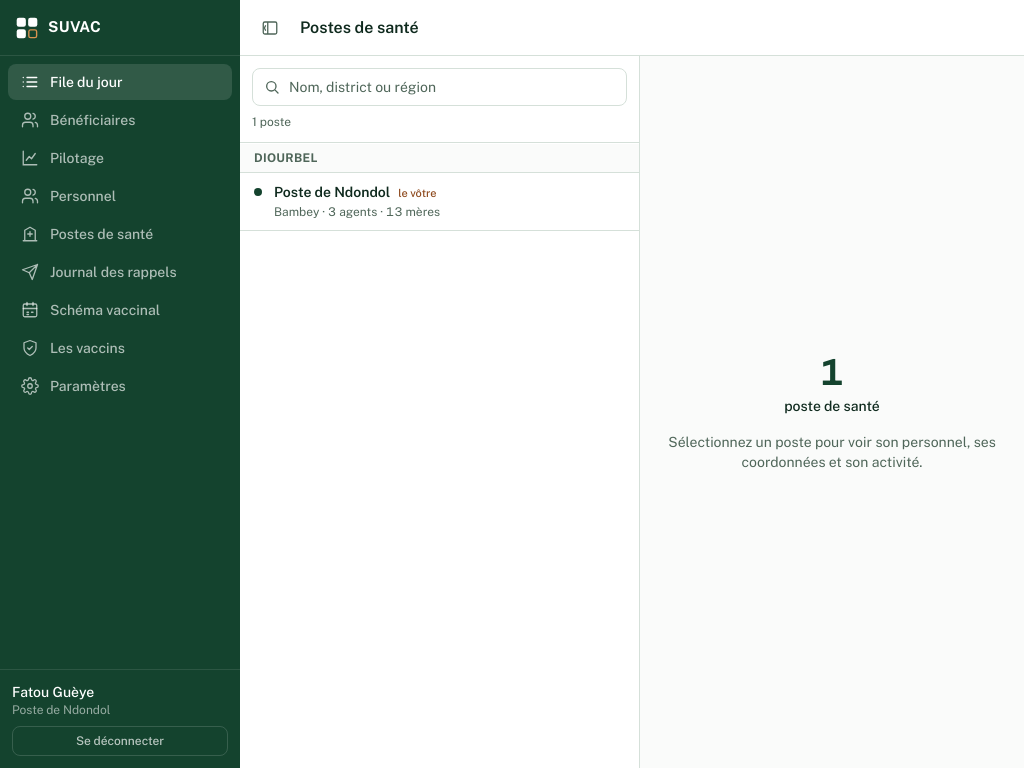
Test: Postes › le superviseur ne peut pas changer le rattachement
expect the text "le vôtre" is shown: met, box x1=398 y1=185 x2=437 y2=202
Click the button "Poste de Ndondol le vôtre Bambey · 3 agents · 13 mères" at [440, 202], box x1=240 y1=172 x2=639 y2=231
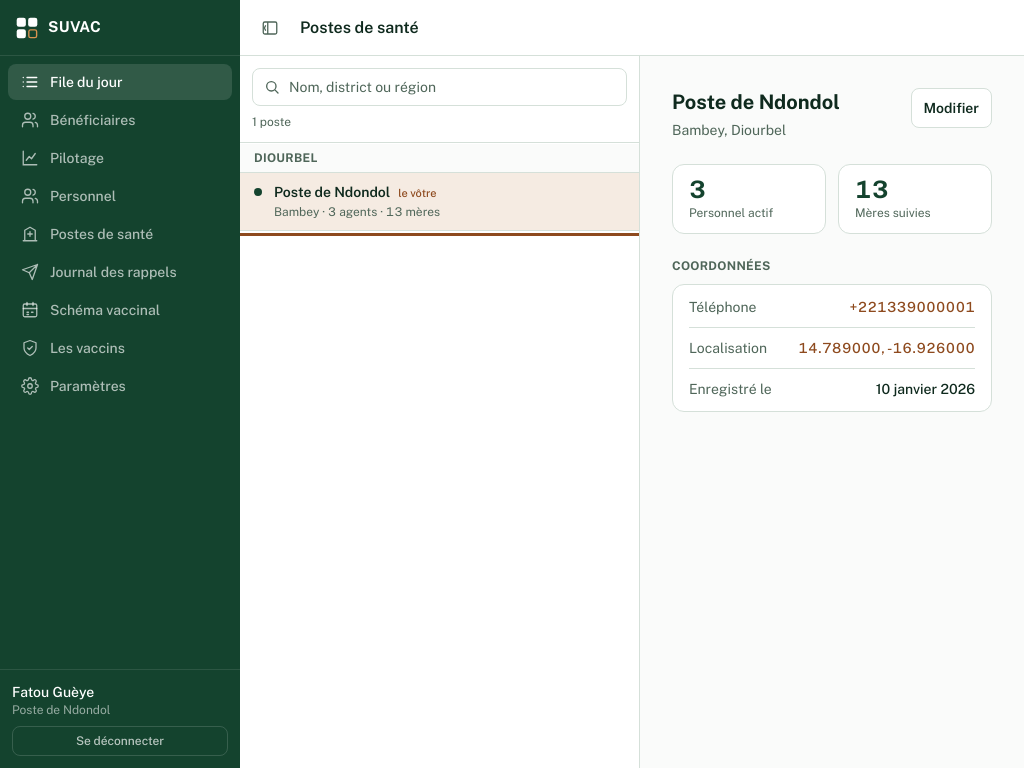
Click the button "Modifier" at [951, 108], box x1=911 y1=88 x2=992 y2=128
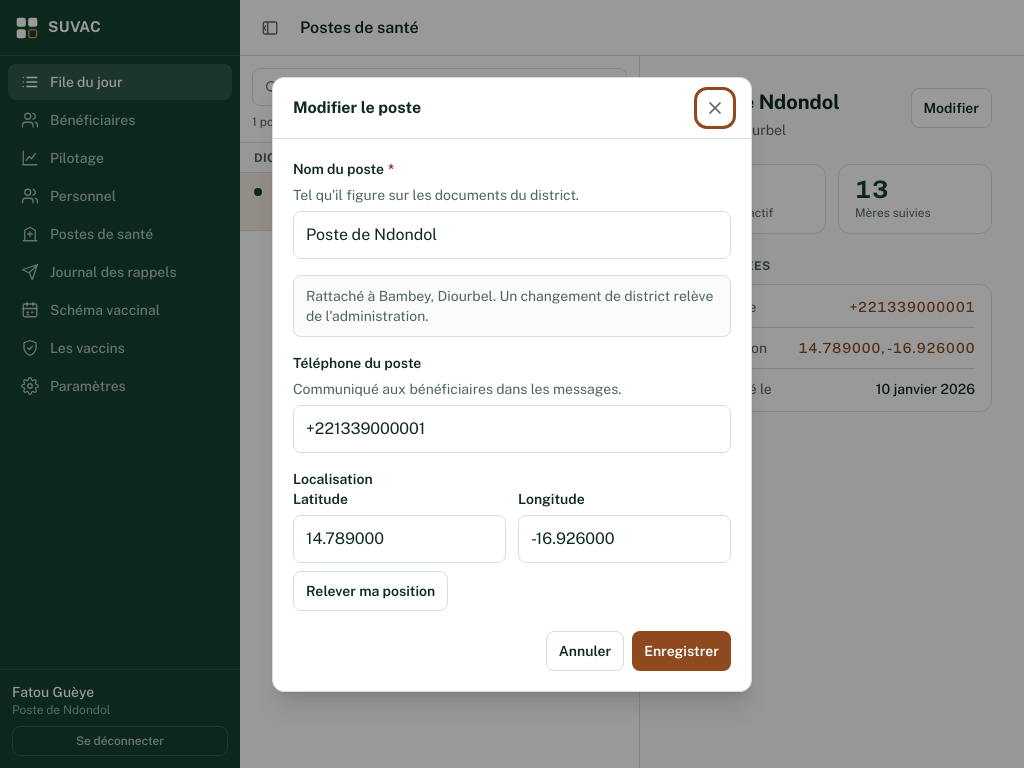
expect the text "relève de l'administration" is shown: met, box x1=306 y1=288 x2=713 y2=324
